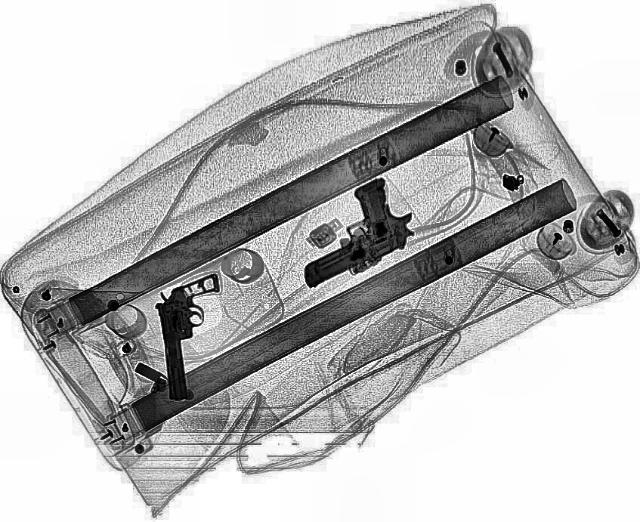Gun: (260, 174, 430, 290), (154, 270, 230, 398)
